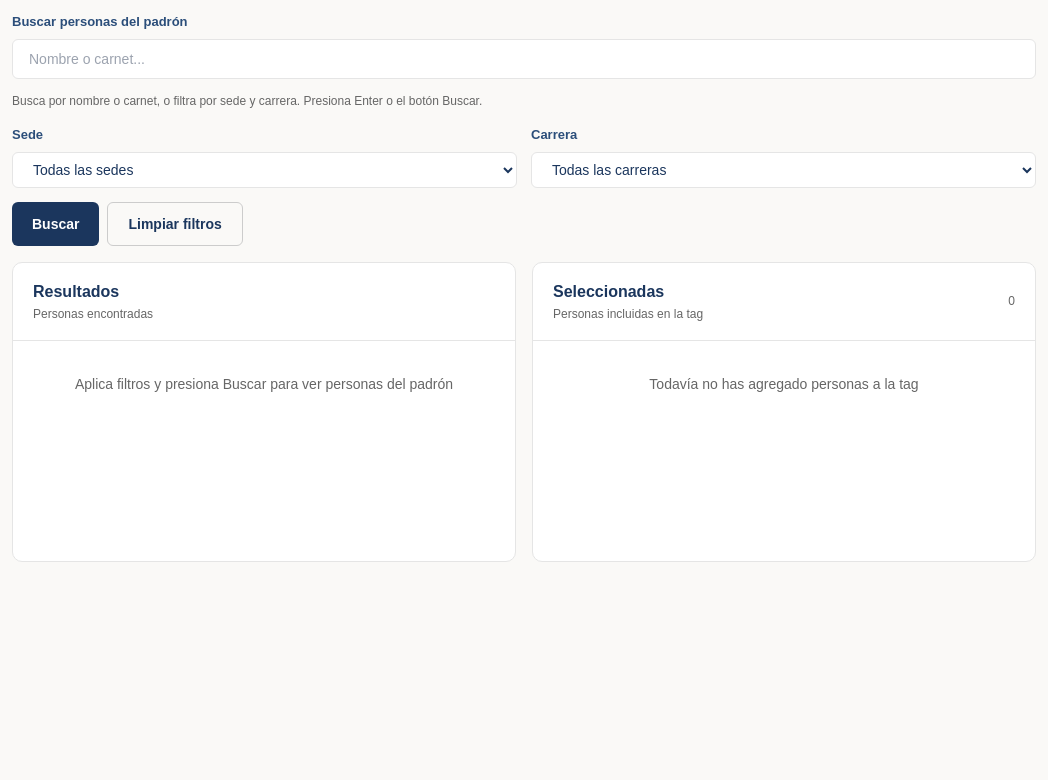
Scenario: TagMembersEditor › shows error message on search failure
In the field with placeholder "Nombre o carnet...": coordinates (524, 59) [12,39,1036,79], type "Juan"
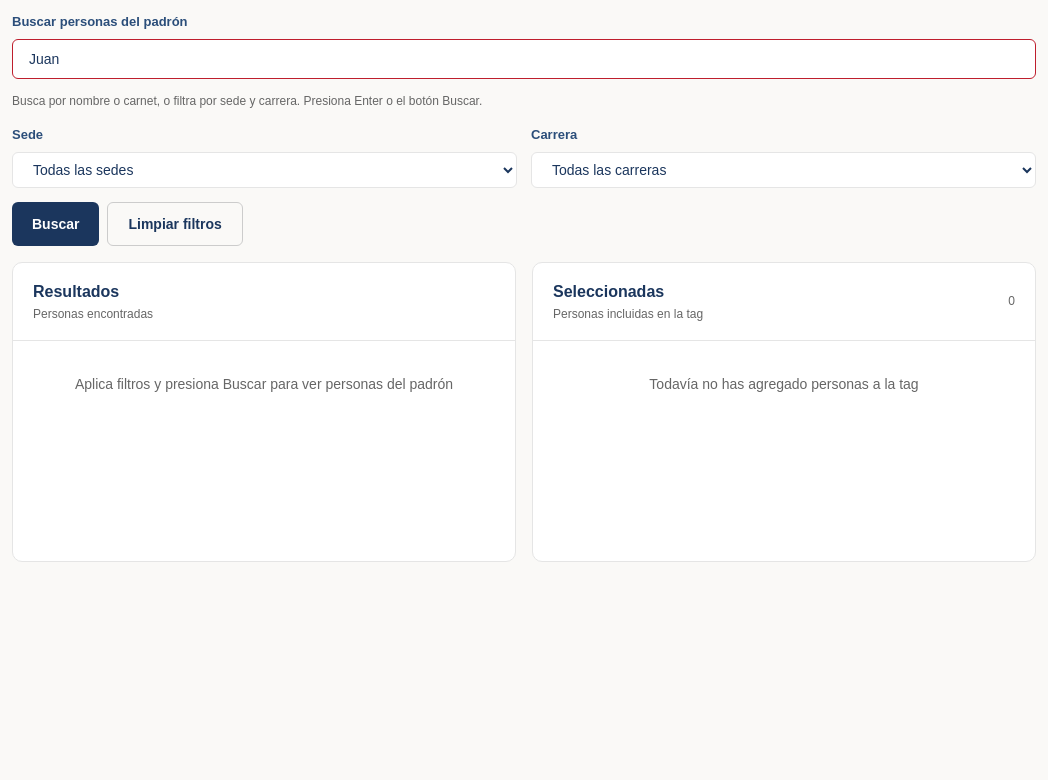
Click the button "Buscar": coordinates (56, 224) [12,202,100,246]
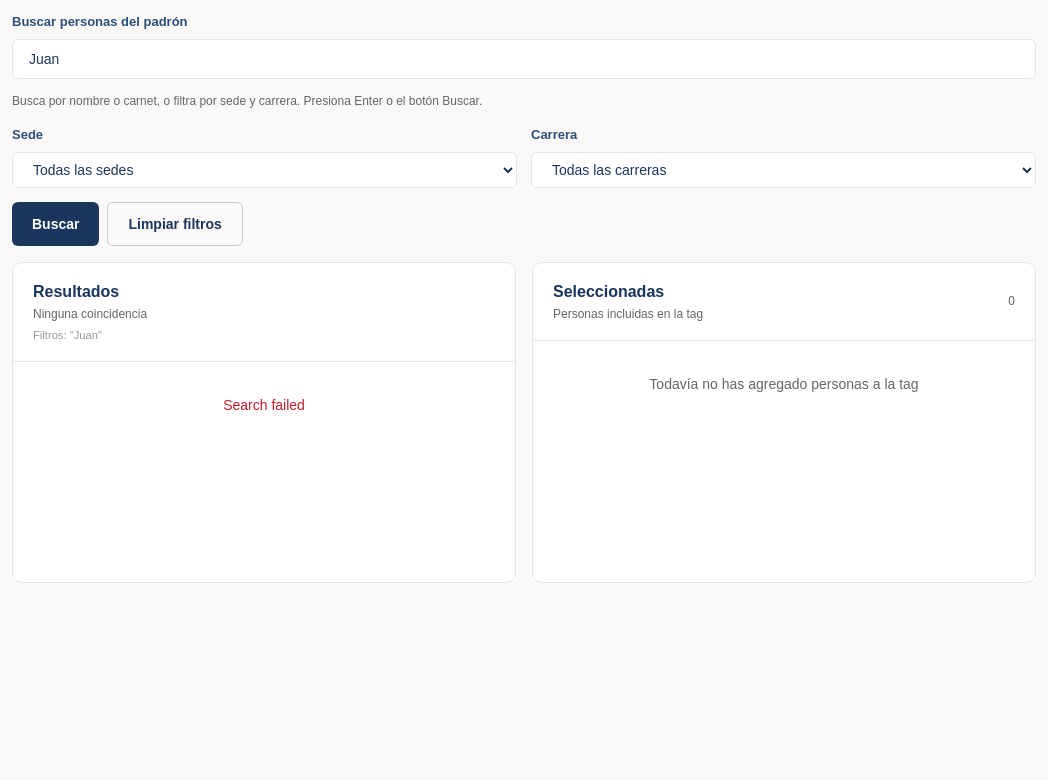
Now the text "Search failed" is shown, box [223,397,305,413]
